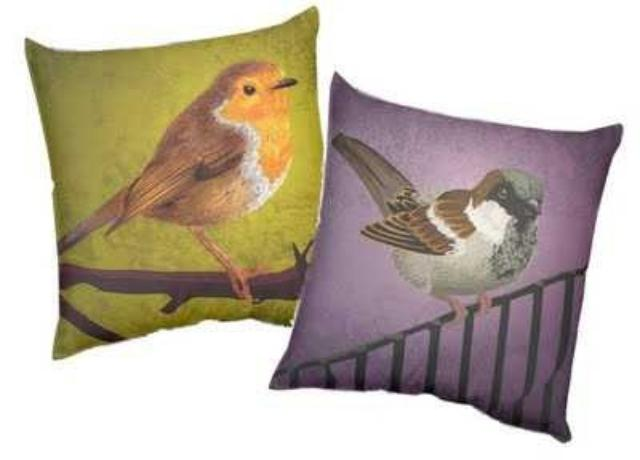pillow: (268, 69, 624, 443), (23, 4, 323, 360)
